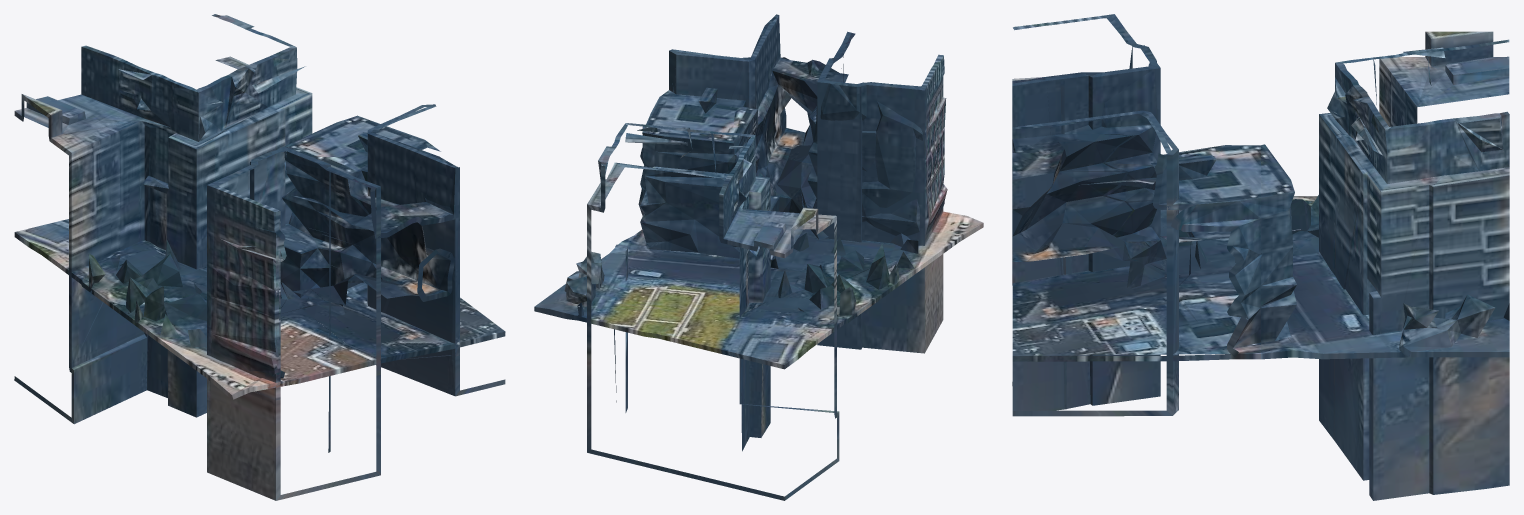
The model's file is chunk_8_3.glb.
The picture shows the model from 3 angles, left to right: view 1: azimuth 30°, elevation 25°; view 2: azimuth 150°, elevation 25°; view 3: azimuth 270°, elevation 25°; orthographic projection. The views are drawn at different scales.
Parts seen in each view (by area): view 1: hero-chunk; view 2: hero-chunk; view 3: hero-chunk.
Part boxes in pixels (x1=…): hero-chunk: x1=14, y1=14, x2=505, y2=500; hero-chunk: x1=534, y1=14, x2=983, y2=500; hero-chunk: x1=1012, y1=14, x2=1509, y2=500.
Bounding box in the file's own units: 55.43 × 61.78 × 76.33.
Materials: 2 (2 with a texture image).
